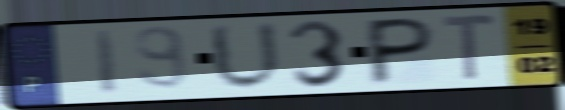3: (286, 18, 349, 90)
9: (132, 24, 192, 97)
I: (92, 27, 122, 97)
P: (365, 15, 439, 88)
T: (438, 12, 501, 85)
U: (205, 18, 287, 94)
